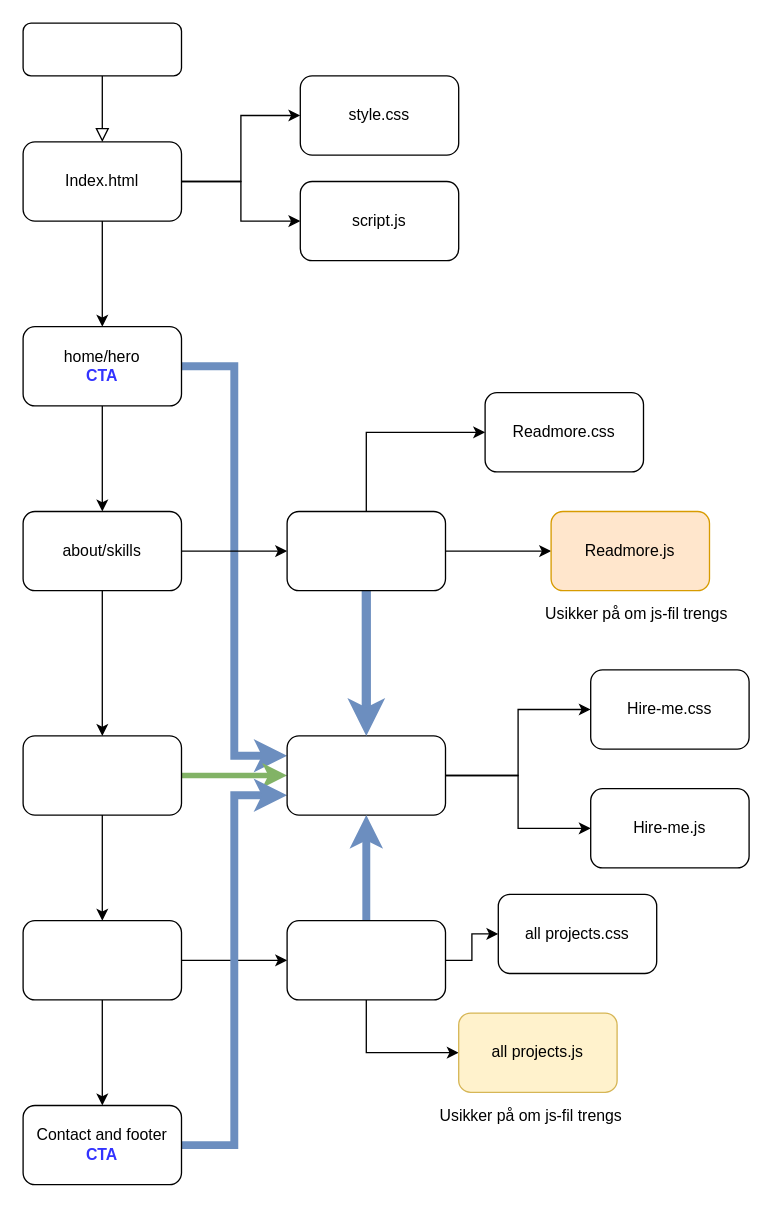
Some shapes in this 772 by 1208 pixel diagram are drawn without their labels. Each missing label, with the centre of its shape:
all projects.html CTA?: pixel 366 959
Hire me/services (fremtidig) CTA: pixel 102 775
Hire-me.html: pixel 366 775
Portfolio/: pixel 102 49
portfolio/projects: pixel 102 959
Readmore.html CTA?: pixel 366 550
